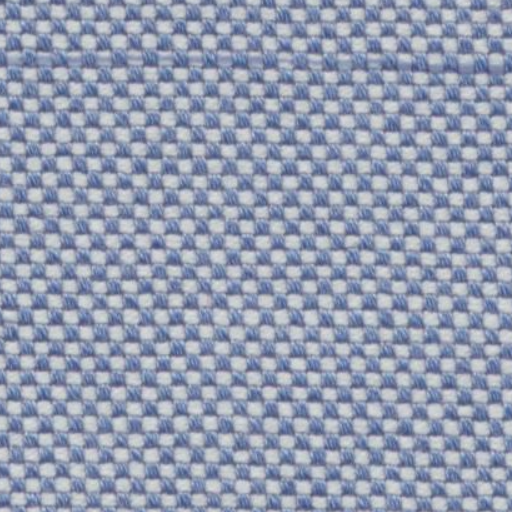TuoSha: (16, 28, 488, 102)
